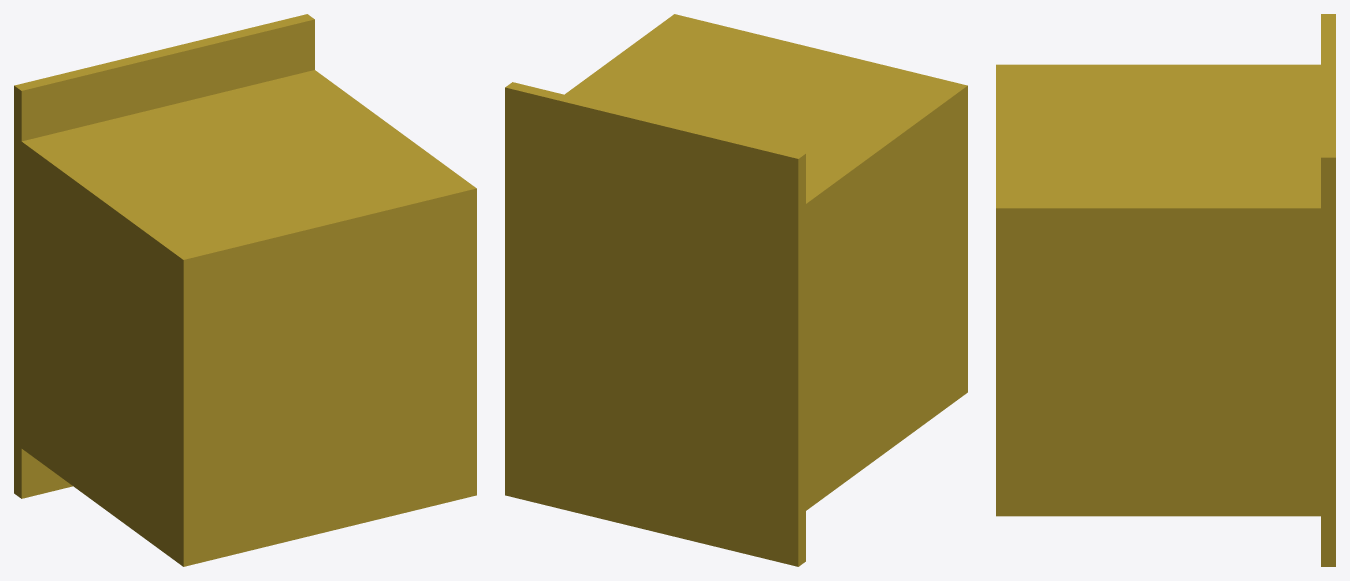
File: rot1_bridge.gltf
3 views of the same model, side by side, from view 1: azimuth 30°, elevation 25°; view 2: azimuth 150°, elevation 25°; view 3: azimuth 270°, elevation 25° (orthographic).
Parts seen in each view (by area): view 1: rot1.bridge; view 2: rot1.bridge; view 3: rot1.bridge.
Boxes of the visible parts, bbox=[...] form: rot1.bridge: bbox=[14, 14, 476, 566]; rot1.bridge: bbox=[505, 14, 967, 566]; rot1.bridge: bbox=[996, 14, 1335, 566].
Size of the model in its own units: 4.56 by 6.06 by 4.56.
